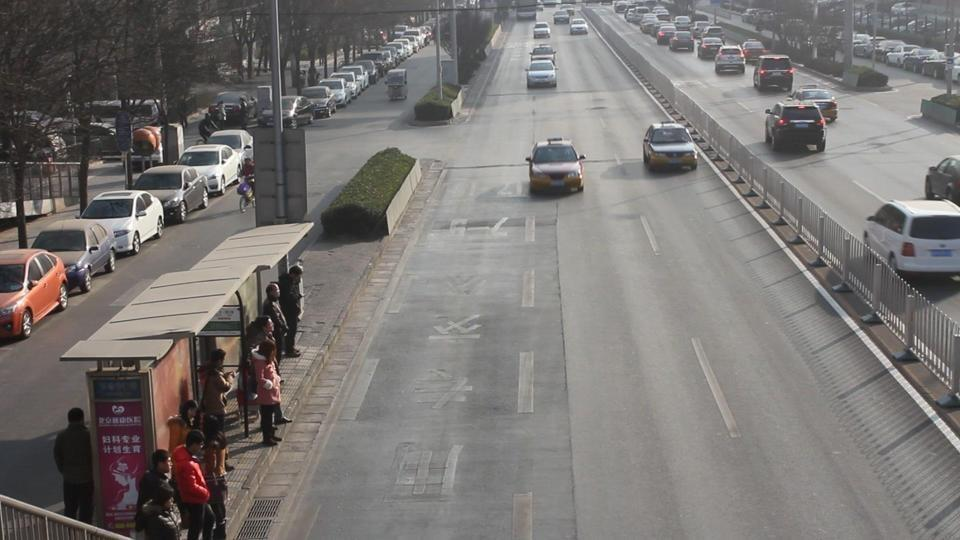car: (862, 198, 960, 278), (0, 247, 70, 343), (30, 220, 117, 292), (78, 189, 164, 256), (132, 164, 209, 224), (176, 144, 242, 195), (527, 139, 586, 195), (764, 101, 827, 153), (642, 123, 697, 173), (206, 128, 255, 176), (260, 95, 315, 129), (924, 155, 960, 205), (752, 55, 796, 93), (792, 88, 838, 124), (209, 92, 252, 126), (302, 86, 337, 118), (319, 77, 355, 106), (334, 65, 369, 94), (714, 46, 747, 76), (525, 59, 558, 89), (697, 29, 726, 61), (385, 69, 408, 101), (528, 45, 558, 66), (669, 31, 694, 52), (532, 22, 552, 41), (552, 10, 571, 26), (570, 19, 588, 35)
